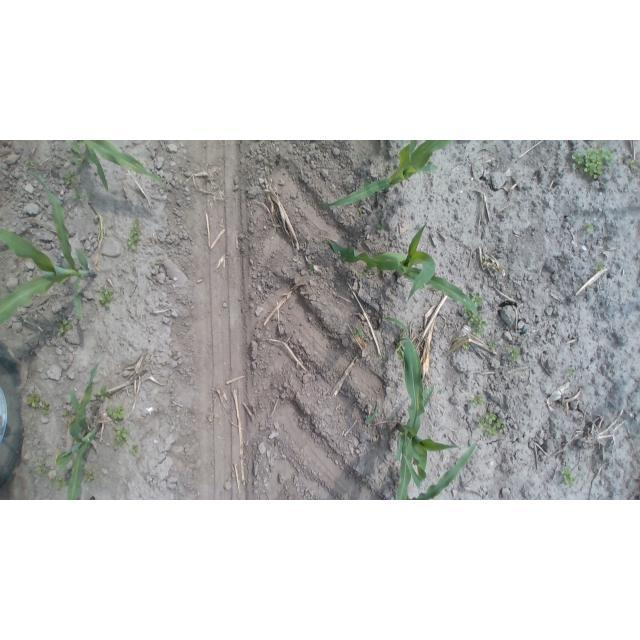Maize: (0, 167, 98, 334), (316, 223, 482, 316), (378, 315, 460, 500), (316, 140, 456, 214), (55, 360, 104, 500), (65, 140, 169, 192), (402, 442, 478, 500)
Weeds: (571, 144, 616, 181), (463, 305, 489, 338), (476, 408, 504, 438), (69, 143, 96, 169), (127, 216, 145, 251), (27, 392, 51, 415), (557, 465, 577, 489), (111, 425, 129, 451), (99, 285, 116, 312), (106, 404, 127, 425), (505, 345, 526, 365), (349, 328, 372, 345), (54, 316, 72, 335), (95, 386, 112, 403), (359, 267, 378, 281), (62, 172, 77, 189), (469, 292, 484, 308), (468, 393, 485, 406), (35, 461, 50, 475), (57, 410, 75, 421), (54, 475, 68, 489), (83, 467, 95, 483), (584, 222, 596, 236), (486, 339, 500, 351), (565, 367, 578, 379), (73, 188, 84, 201), (627, 158, 637, 172), (460, 341, 474, 351), (24, 156, 36, 167), (597, 261, 608, 272), (130, 444, 139, 457), (385, 161, 393, 173), (376, 220, 385, 230)
